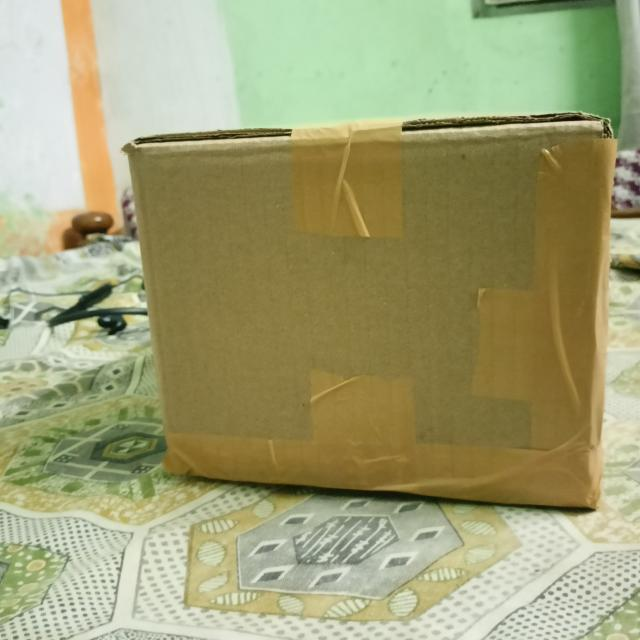box: (132, 129, 603, 514)
